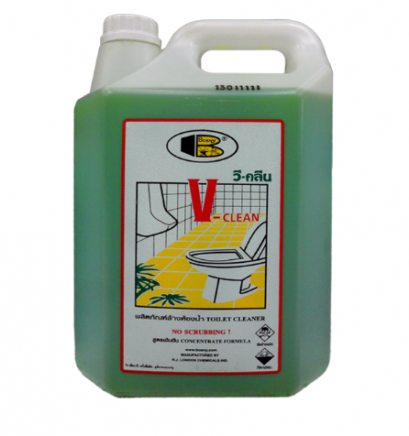Cleaning_solution: (69, 8, 338, 404)
